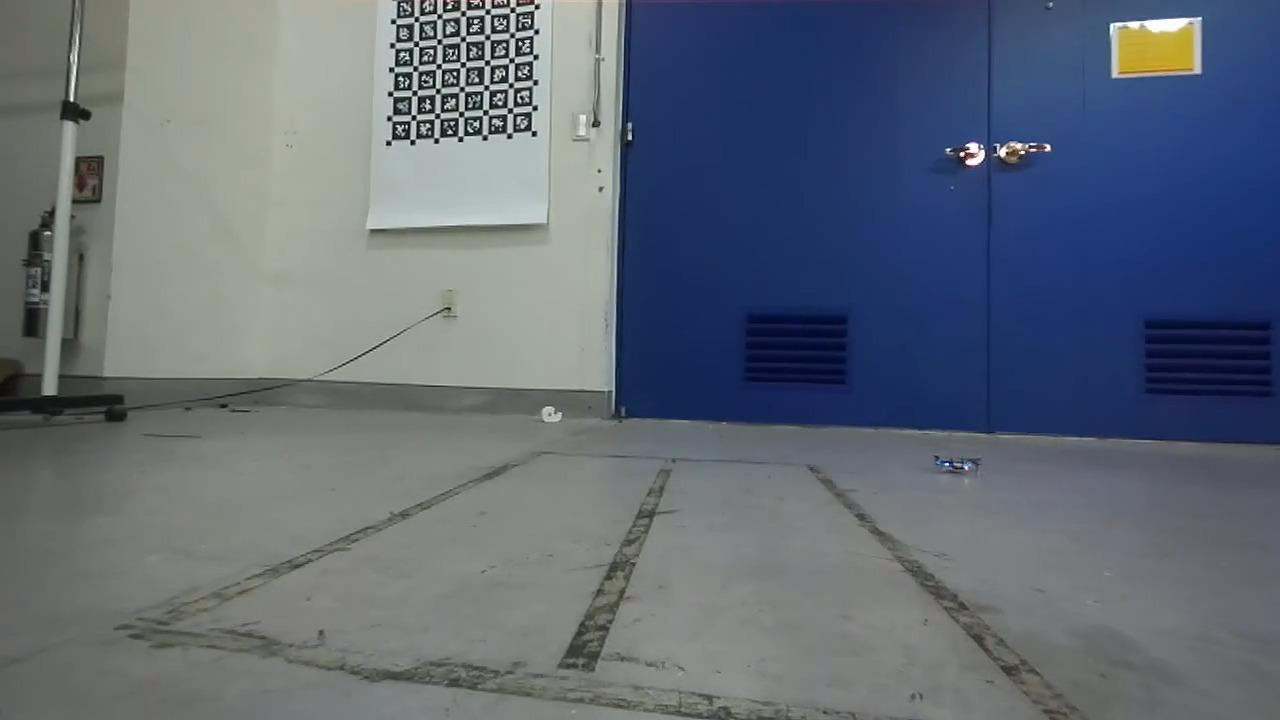crazyflie: (933, 448, 980, 479)
